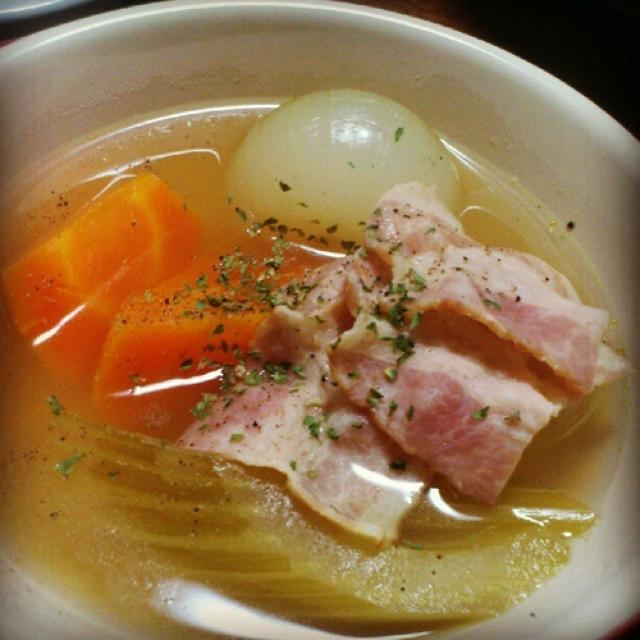汤锅炖物: (5, 20, 626, 626)
